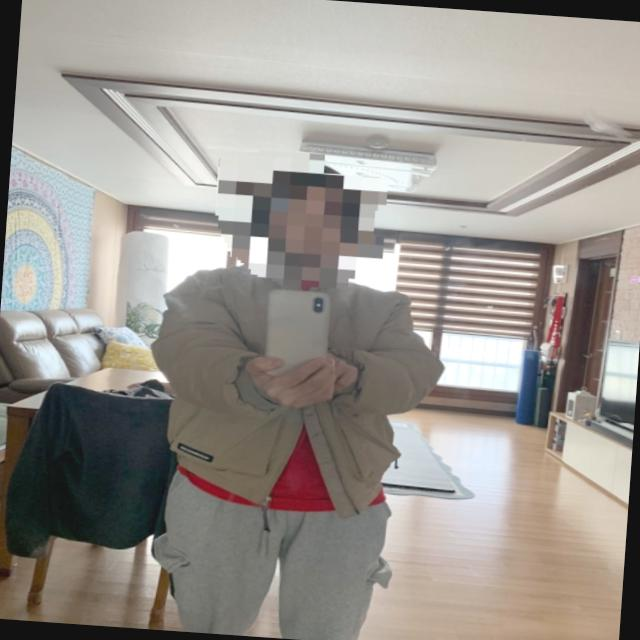padding: (140, 260, 448, 523)
trainingpants: (151, 463, 393, 640)
